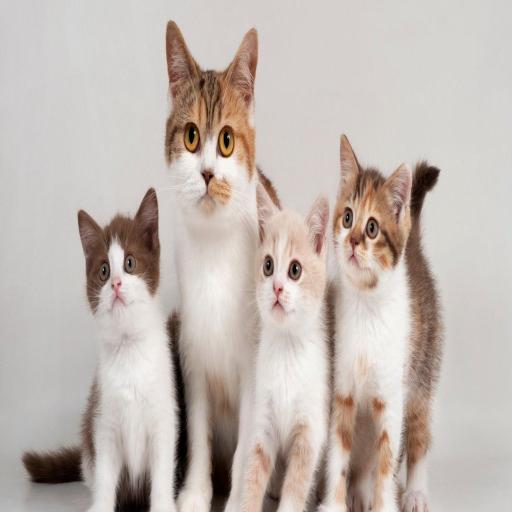cat: (144, 12, 296, 512), (56, 185, 190, 512), (320, 100, 424, 512), (247, 168, 332, 512)
